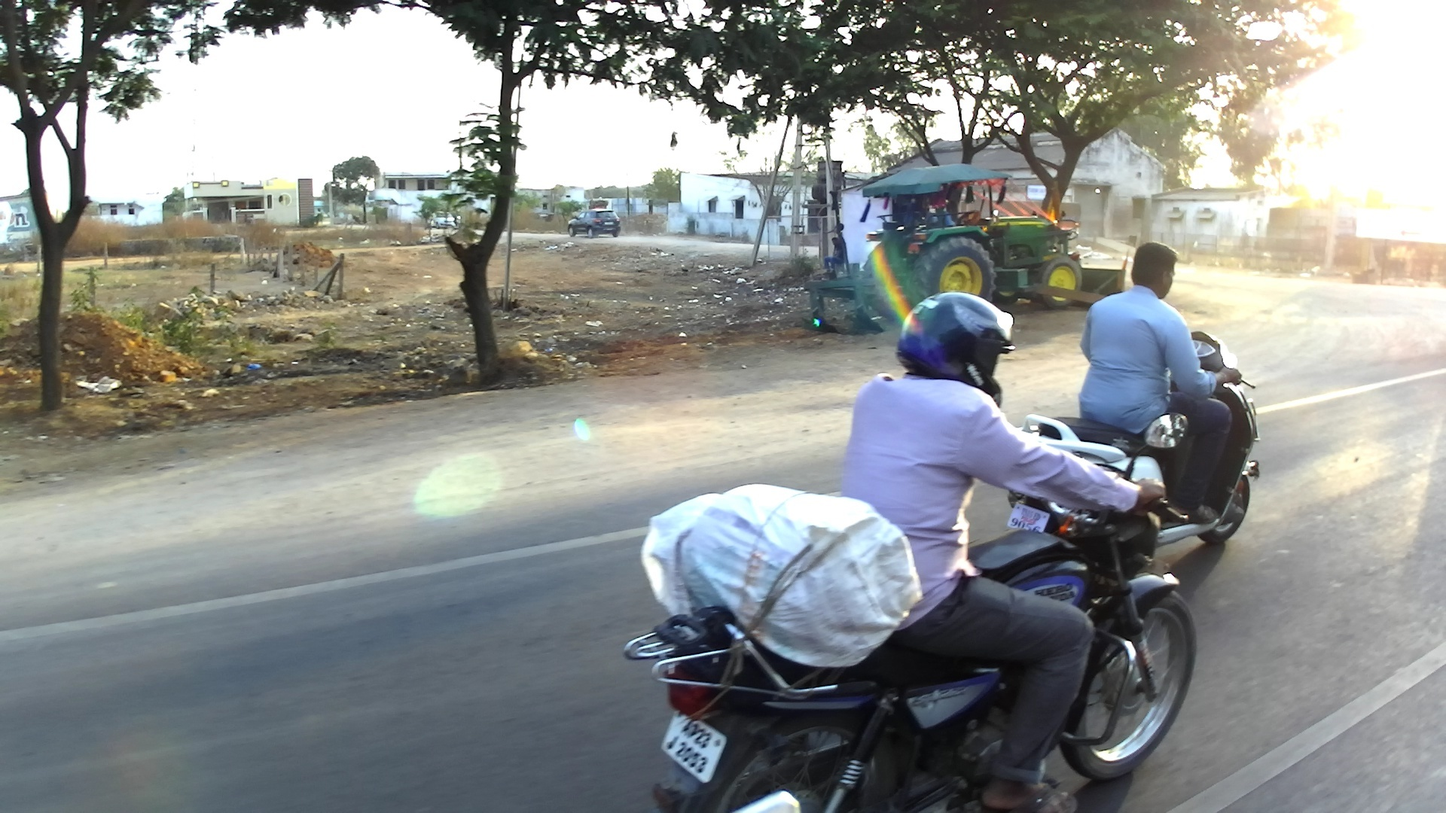car: (566, 206, 621, 236), (426, 209, 455, 233)
motorcycle: (614, 410, 1198, 813), (1016, 330, 1259, 567)
person: (819, 239, 847, 279)
rider: (837, 294, 1165, 811), (1081, 239, 1244, 526)
vehicle fallback: (804, 163, 1129, 333)
